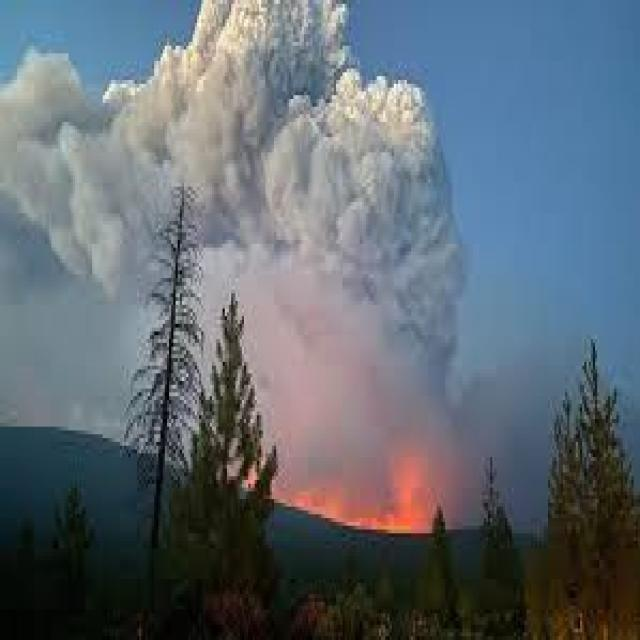Fire: (277, 427, 483, 540)
Smoke: (72, 0, 460, 355), (254, 0, 464, 445), (332, 0, 459, 427)
